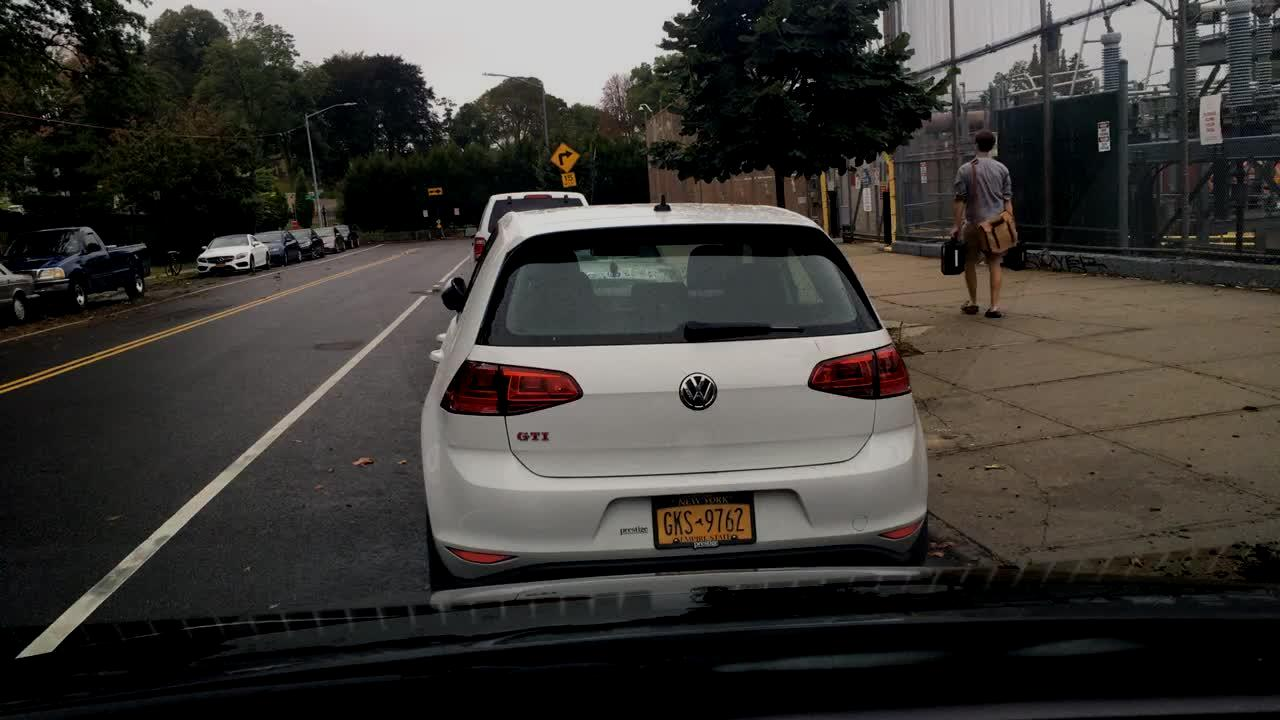Volkswagen: (670, 365, 720, 428)
